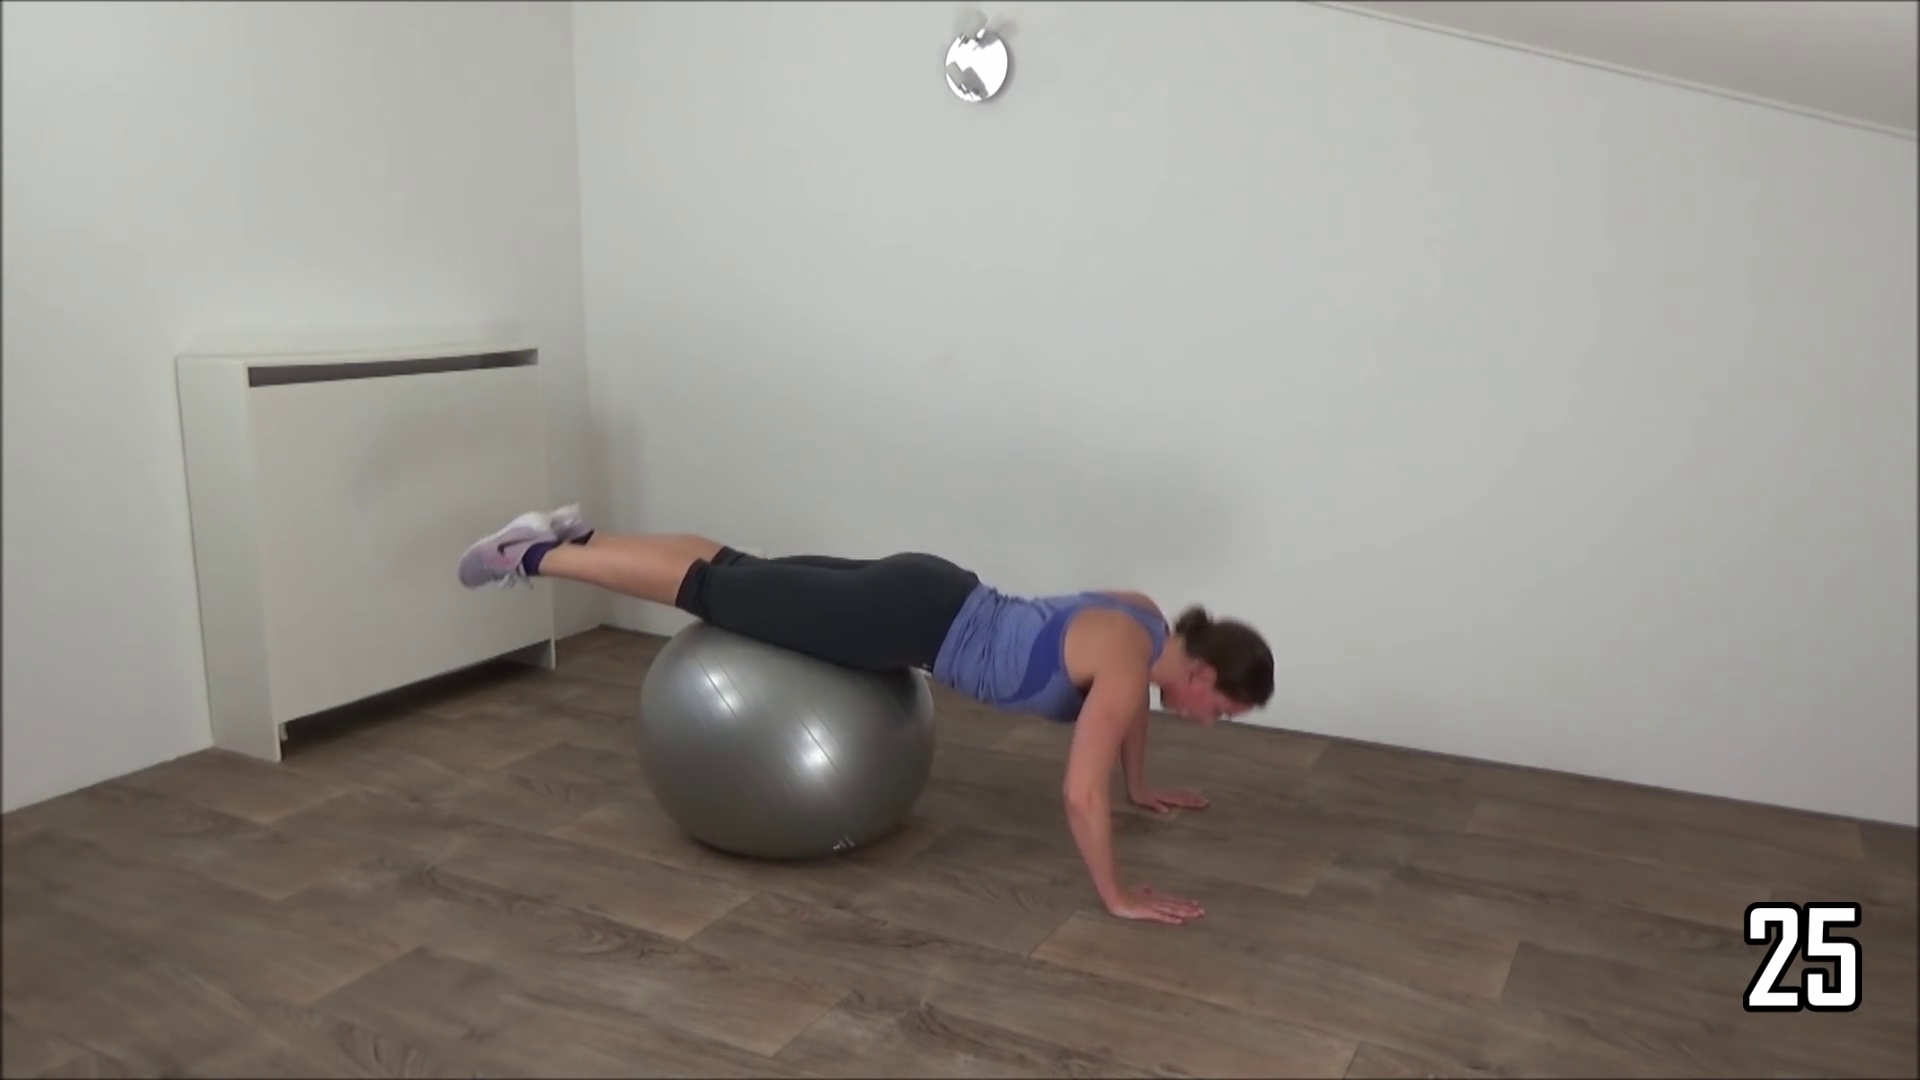yogaball: (622, 603, 960, 884)
